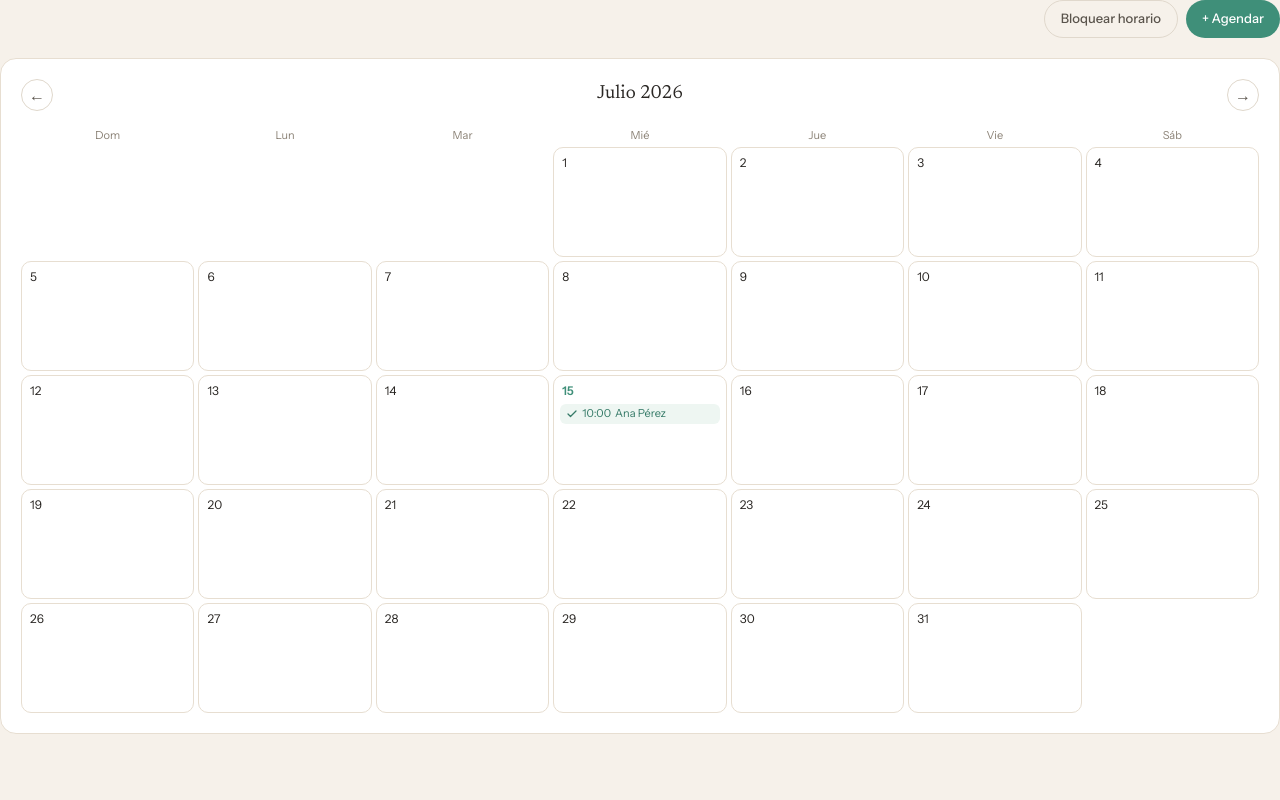
Scenario: CalendarView — navegación día → detalle → volver › un día sin citas muestra 'Sin citas este día'
The width and height of the screenshot is (1280, 800).
Click the button "20". click: coordinates (285, 544)
box: [198,489,372,599]
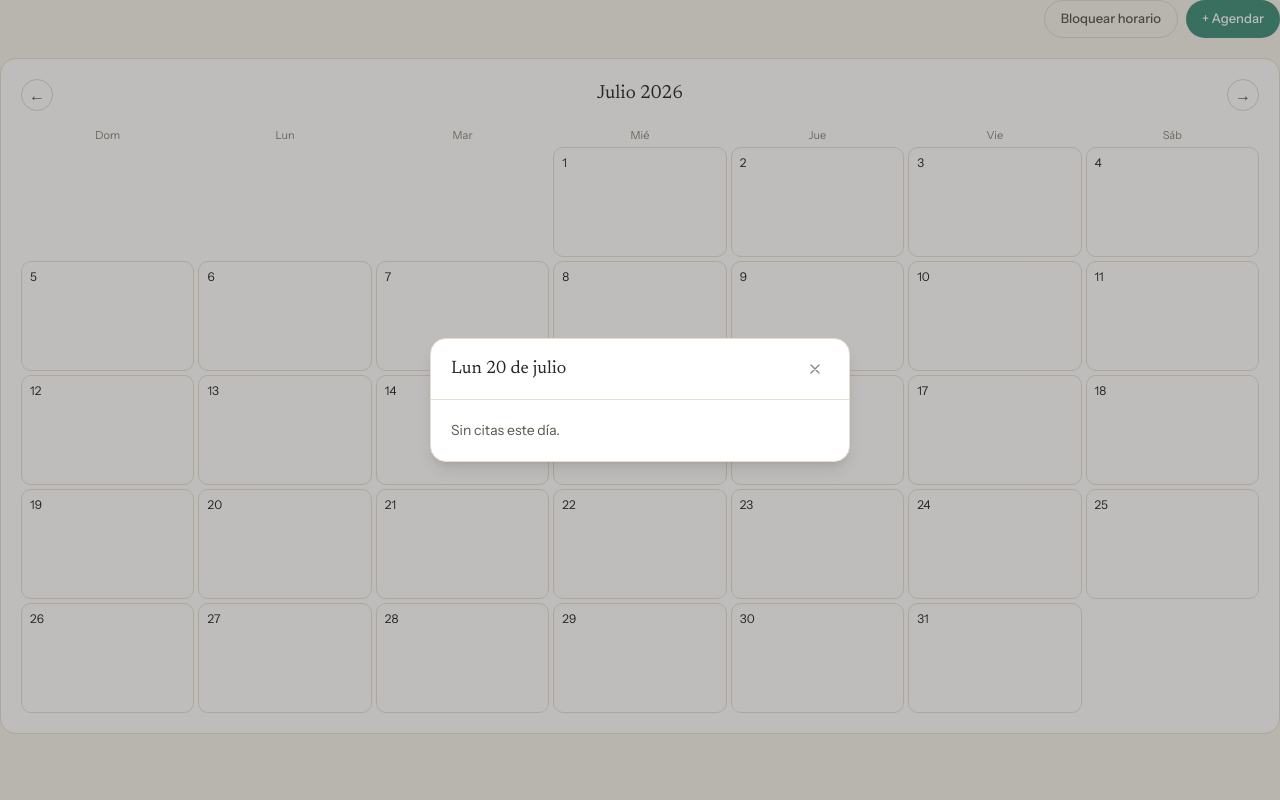
Check: the text "Sin citas este día." is shown, box [451,421,560,439]
